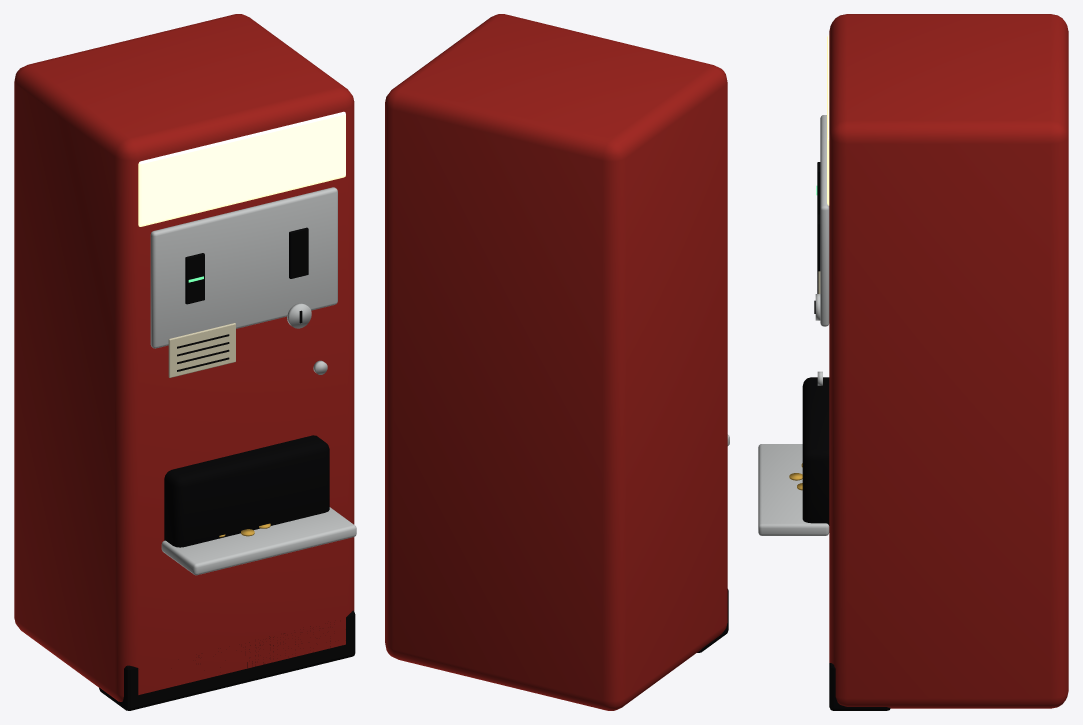
The model's file is token-changer.glb.
3 views of the same model, side by side, from view 1: azimuth 30°, elevation 25°; view 2: azimuth 150°, elevation 25°; view 3: azimuth 270°, elevation 25° (orthographic). The views are drawn at different scales.
Parts seen in each view (by area): view 1: Würfel, Würfel.003, Würfel.001, Würfel.013, Würfel.014, Würfel.015, Würfel.008, Würfel.005, Würfel.004; view 2: Würfel; view 3: Würfel, Würfel.014, Würfel.013, Würfel.003, Würfel.015, Würfel.001.
Boxes of the visible parts, x1,y1,x2,y2 form: Würfel: [14, 14, 354, 701]; Würfel.003: [150, 187, 337, 348]; Würfel.001: [138, 111, 345, 226]; Würfel.013: [164, 435, 329, 547]; Würfel.014: [161, 507, 356, 575]; Würfel.015: [99, 610, 355, 710]; Würfel.008: [168, 323, 235, 377]; Würfel.005: [289, 227, 308, 278]; Würfel.004: [185, 253, 204, 304]; Würfel: [385, 14, 727, 710]; Würfel: [829, 14, 1068, 708]; Würfel.014: [758, 444, 829, 535]; Würfel.013: [802, 377, 829, 525]; Würfel.003: [820, 115, 829, 326]; Würfel.015: [829, 663, 890, 710]; Würfel.001: [827, 35, 829, 205].
Size of the model in its own units: 0.64 by 1.46 by 0.7.
